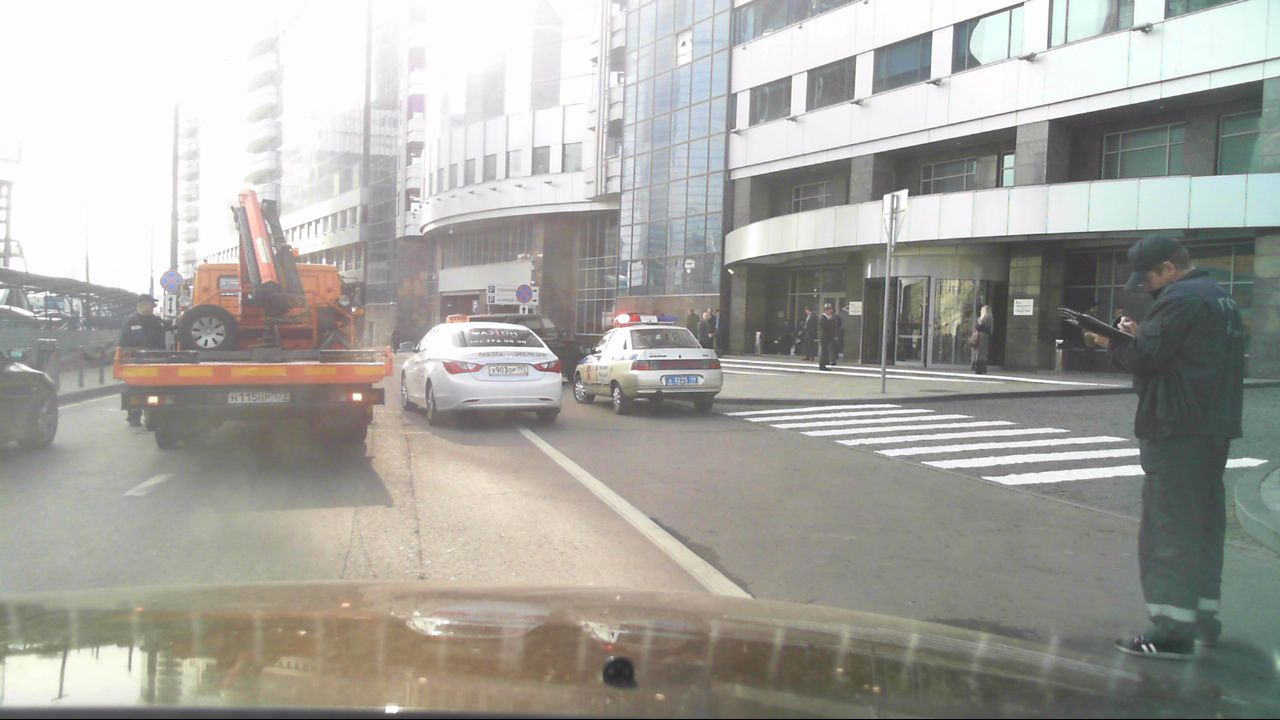No Parking: (516, 283, 534, 306)
